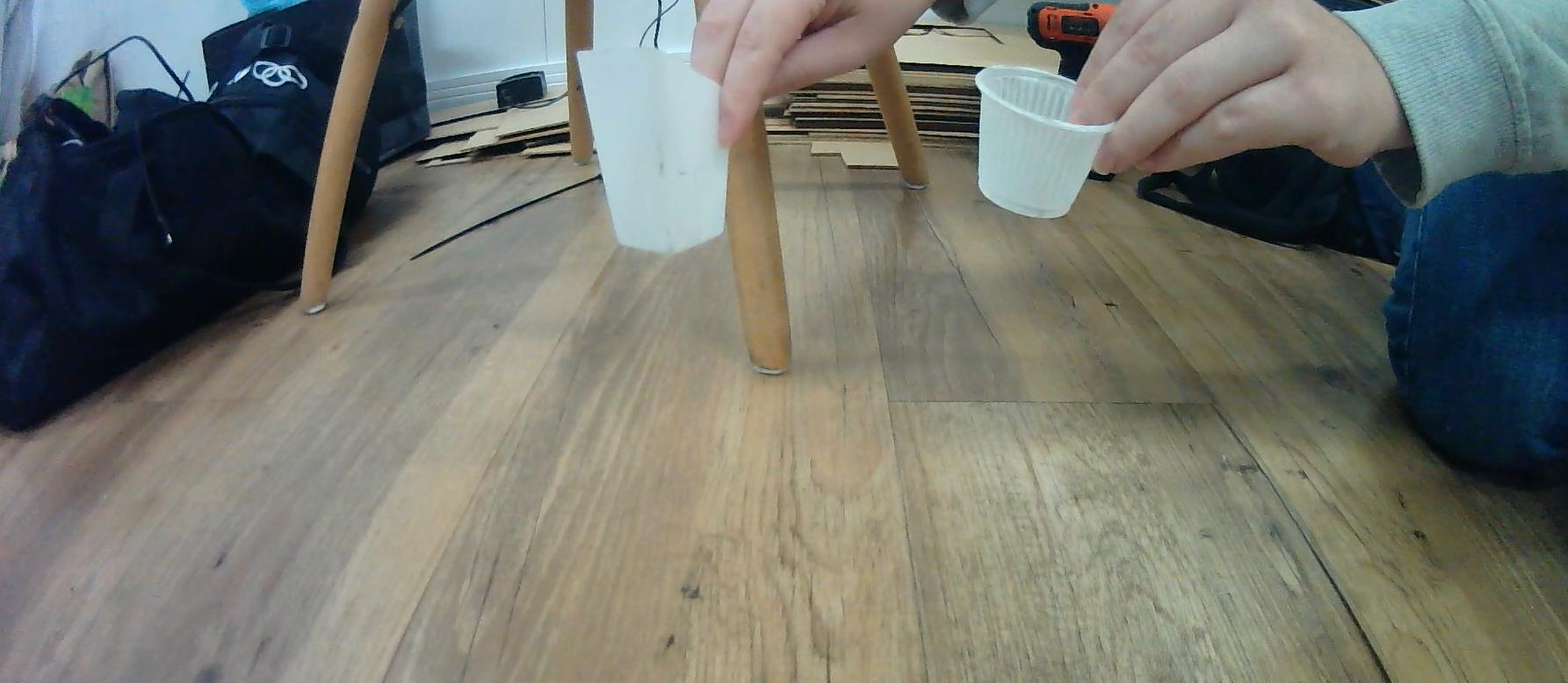erva_daninha: (575, 47, 733, 255)
planta: (973, 65, 1116, 219)
